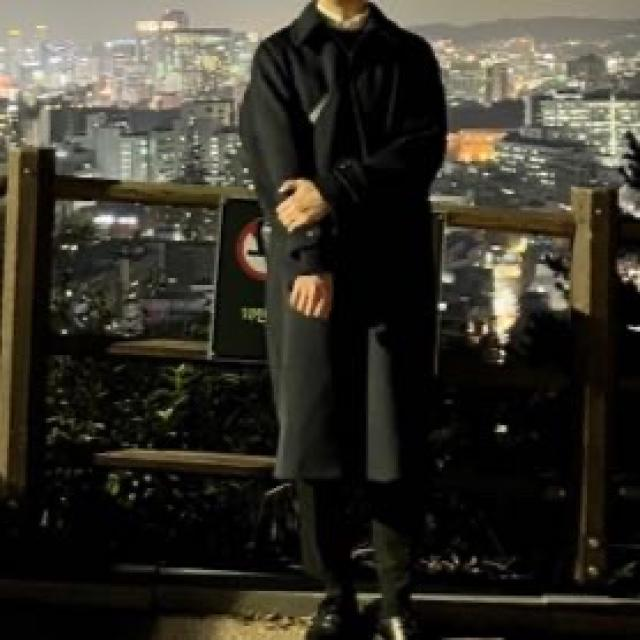coat: (241, 0, 448, 485)
cottonpants: (296, 483, 418, 617)
